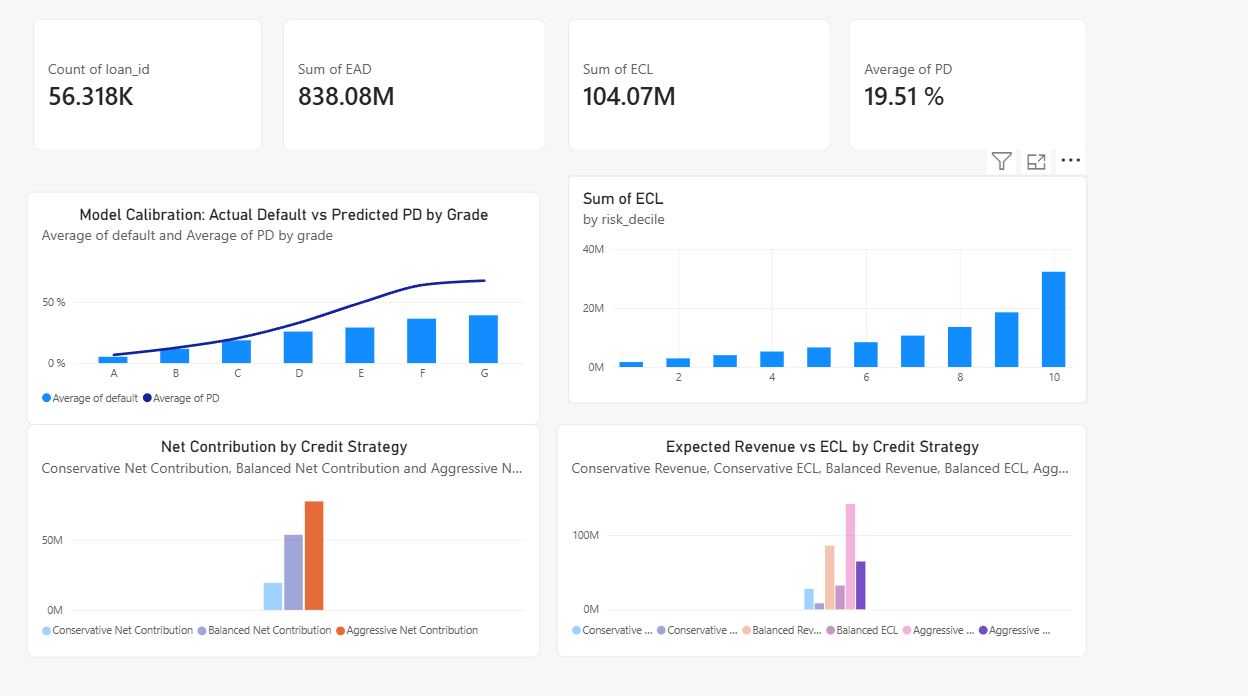

The page's visual inventory and layout, read from the dashboard file:
{"tool":"powerbi","page":{"name":"Page 1","canvas":[1920,1080],"ordinal":0},"visuals":[{"type":"cardVisual","title":"Total Loans","fields":{"Data":["CountNonNull(powerbi_loan_level.loan_id)"]},"box":[67.9,41.1,262.8,150.2],"z":0},{"type":"cardVisual","fields":{"Data":["Sum(powerbi_loan_level.EAD)"]},"box":[354,41.1,300.4,150.2],"z":1000},{"type":"cardVisual","fields":{"Data":["Sum(powerbi_loan_level.ECL)"]},"box":[679.5,41.1,300.4,150.2],"z":2000},{"type":"cardVisual","fields":{"Data":["Avg(powerbi_loan_level.PD)"]},"box":[1001.3,41.1,271.8,150.2],"z":3000},{"type":"clusteredColumnChart","fields":{"Category":["powerbi_loan_level.risk_decile"],"Y":["Sum(powerbi_loan_level.ECL)"]},"box":[679.5,219.9,593.6,261.1],"z":5000},{"type":"clusteredColumnChart","title":"Expected Revenue vs ECL by Credit Strategy","fields":{"Y":["powerbi_loan_level.Conservative Revenue","powerbi_loan_level.Conservative ECL","powerbi_loan_level.Balanced Revenue","powerbi_loan_level.Balanced ECL","powerbi_loan_level.Aggressive Revenue","powerbi_loan_level.Aggressive ECL"]},"box":[667.1,504.3,605.7,265.7],"z":7000},{"type":"clusteredColumnChart","title":"Net Contribution by Credit Strategy","fields":{"Y":["powerbi_loan_level.Conservative Net Contribution","powerbi_loan_level.Balanced Net Contribution","powerbi_loan_level.Aggressive Net Contribution"]},"box":[61.4,504.3,586.5,266.4],"z":8000},{"type":"lineStackedColumnComboChart","title":"Model Calibration: Actual Default vs Predicted PD by Grade","fields":{"Category":["powerbi_loan_level.grade"],"Y":["Avg(powerbi_loan_level.default)"],"Y2":["Avg(powerbi_loan_level.PD)"]},"box":[61.4,238.6,586,266],"z":8001}]}

Visuals, with their boxes in screenshot pixels (x1, y1, x2, y2), scaled from the page's 1920x1080 canvas onto the 1248x696 screenshot:
"Total Loans" cardVisual: BBox(44, 26, 215, 123)
cardVisual - Sum(powerbi_loan_level.EAD): BBox(230, 26, 425, 123)
cardVisual - Sum(powerbi_loan_level.ECL): BBox(442, 26, 637, 123)
cardVisual - Avg(powerbi_loan_level.PD): BBox(651, 26, 828, 123)
clusteredColumnChart - powerbi_loan_level.risk_decile x Sum(powerbi_loan_level.ECL): BBox(442, 142, 828, 310)
"Expected Revenue vs ECL by Credit Strategy" clusteredColumnChart: BBox(434, 325, 827, 496)
"Net Contribution by Credit Strategy" clusteredColumnChart: BBox(40, 325, 421, 497)
"Model Calibration: Actual Default vs Predicted PD by Grade" lineStackedColumnComboChart: BBox(40, 154, 421, 325)
